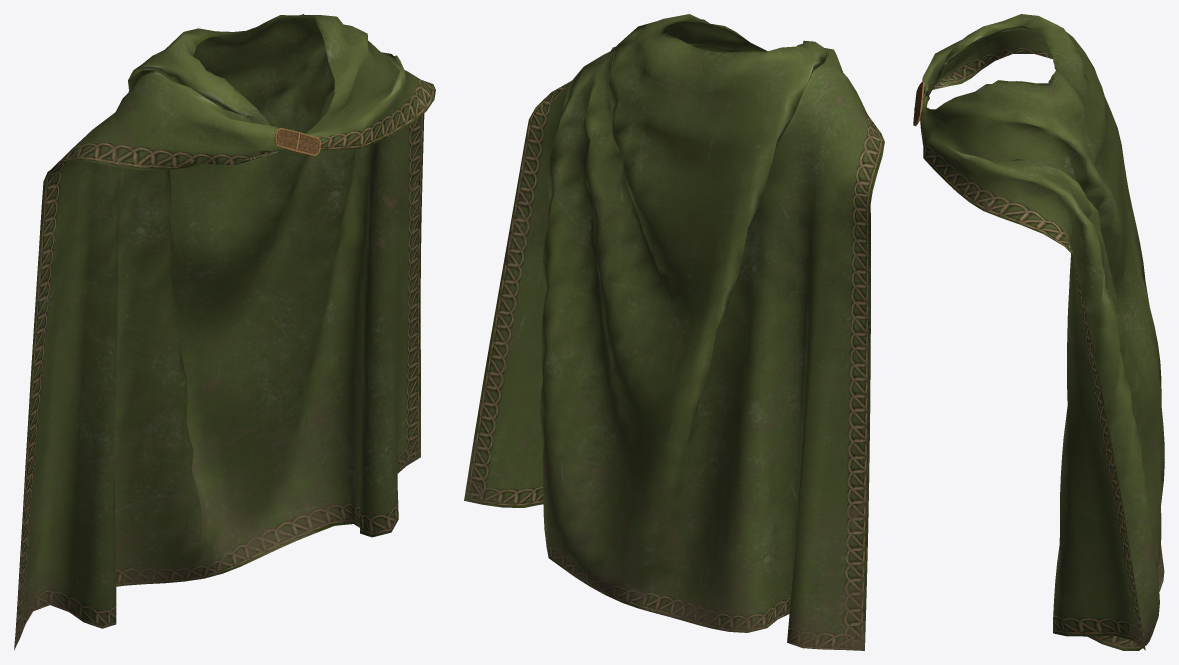
The model's file is cts_rohan_cape2.fbx.
3 views of the same model, side by side, from view 1: azimuth 30°, elevation 25°; view 2: azimuth 150°, elevation 25°; view 3: azimuth 270°, elevation 25° (orthographic). The views are drawn at different scales.
Visible parts, largest first — view 1: cts_rohan_cape2; view 2: cts_rohan_cape2; view 3: cts_rohan_cape2.
Part boxes in pixels (bbox=[...]): cts_rohan_cape2: bbox=[14, 14, 435, 650]; cts_rohan_cape2: bbox=[464, 14, 884, 650]; cts_rohan_cape2: bbox=[913, 14, 1164, 650].
Size of the model in its own units: 0.9055 by 0.4938 by 1.24.
